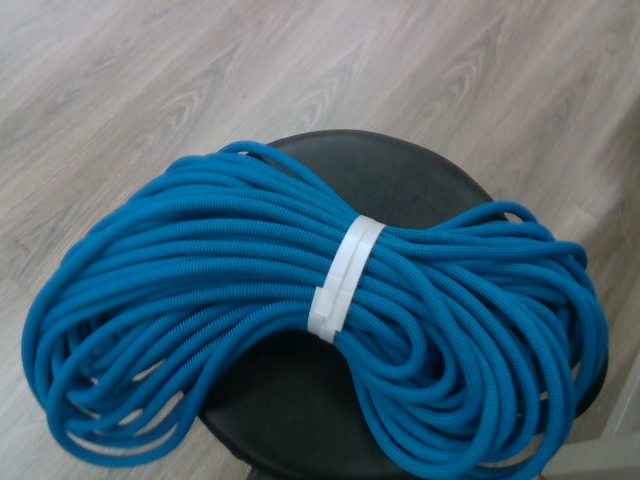rope: (21, 135, 615, 480)
